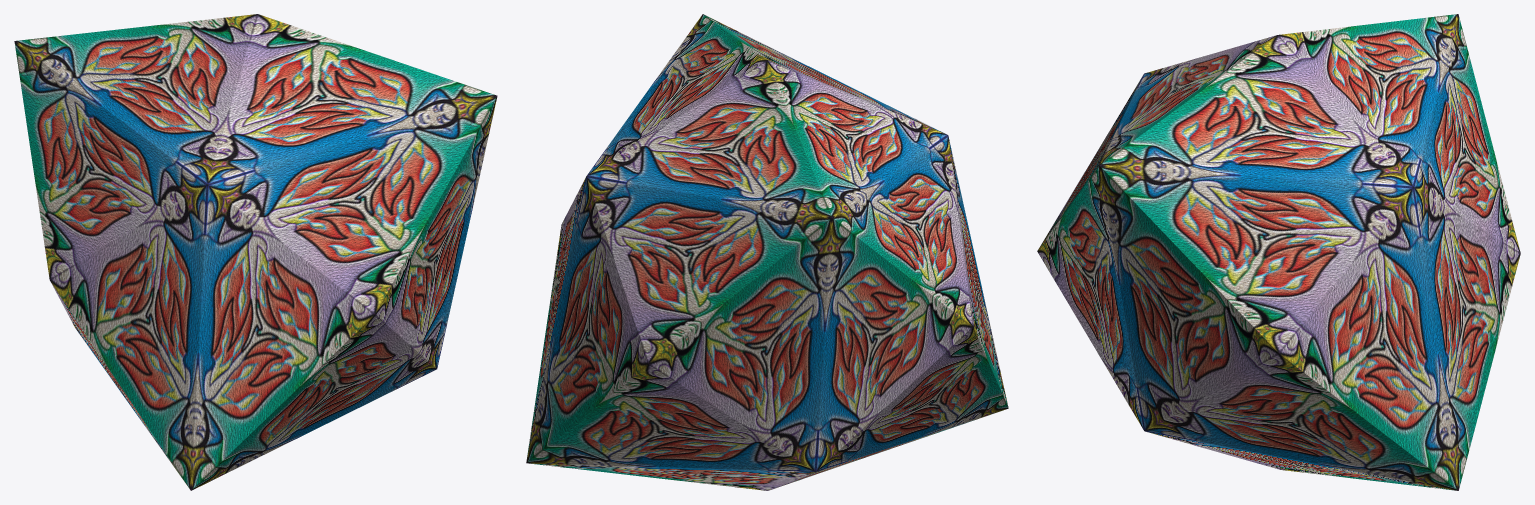
The model's file is HexakisTetrahedron10.obj.
3 renders of one model, left to right at view 1: azimuth 30°, elevation 25°; view 2: azimuth 150°, elevation 25°; view 3: azimuth 270°, elevation 25°, orthographic.
Bounding box in the file's own units: 9.9 × 9.85 × 9.9.
Materials: 1 (1 with a texture image).
